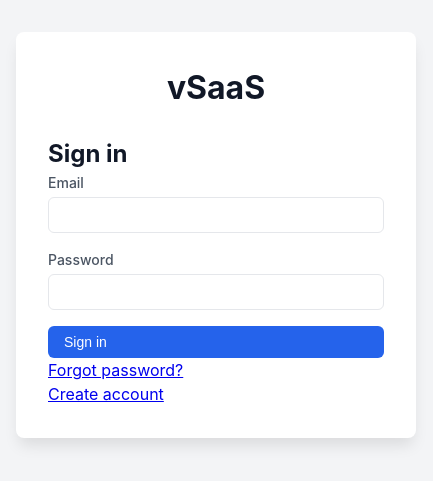
Test: Authentication › shows error on invalid credentials
Type "invalid@example.com" into the field labelled "Email".
click(216, 215); type("invalid@example.com")  # box [48,197,384,233]
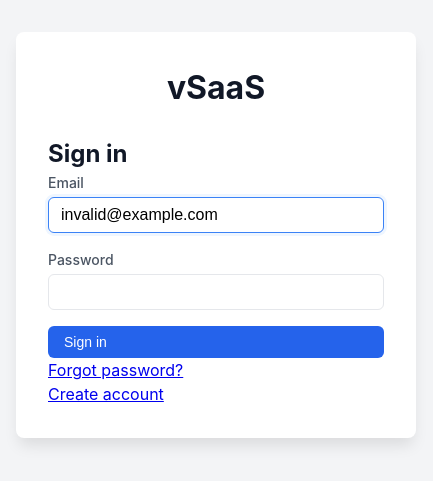
Type "wrongpassword" into the password field labelled "Password".
click(216, 292); type("wrongpassword")  # box [48,274,384,310]
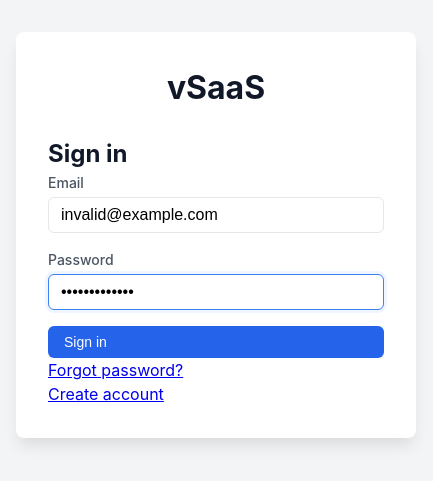
Click the submit button.
click(85, 342)  # box [48,326,384,358]
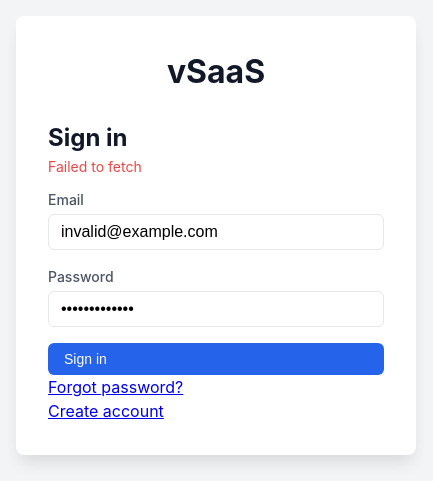
Expected: the text "Failed to fetch" is shown, [48,158,142,174]
